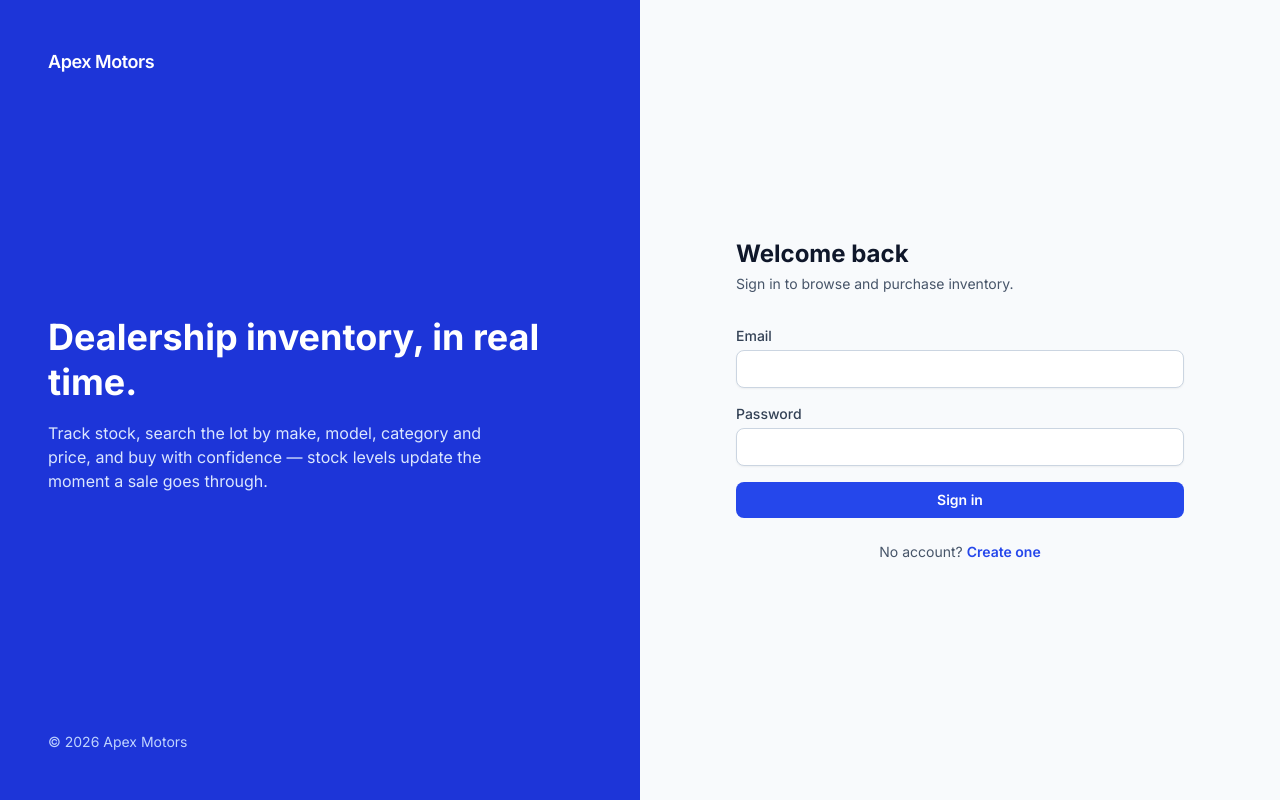
LoginPage › surfaces the API error message when sign in fails
Type "ada@example.com" into the field labelled "Email" at (960, 369), box [736,350,1184,388]
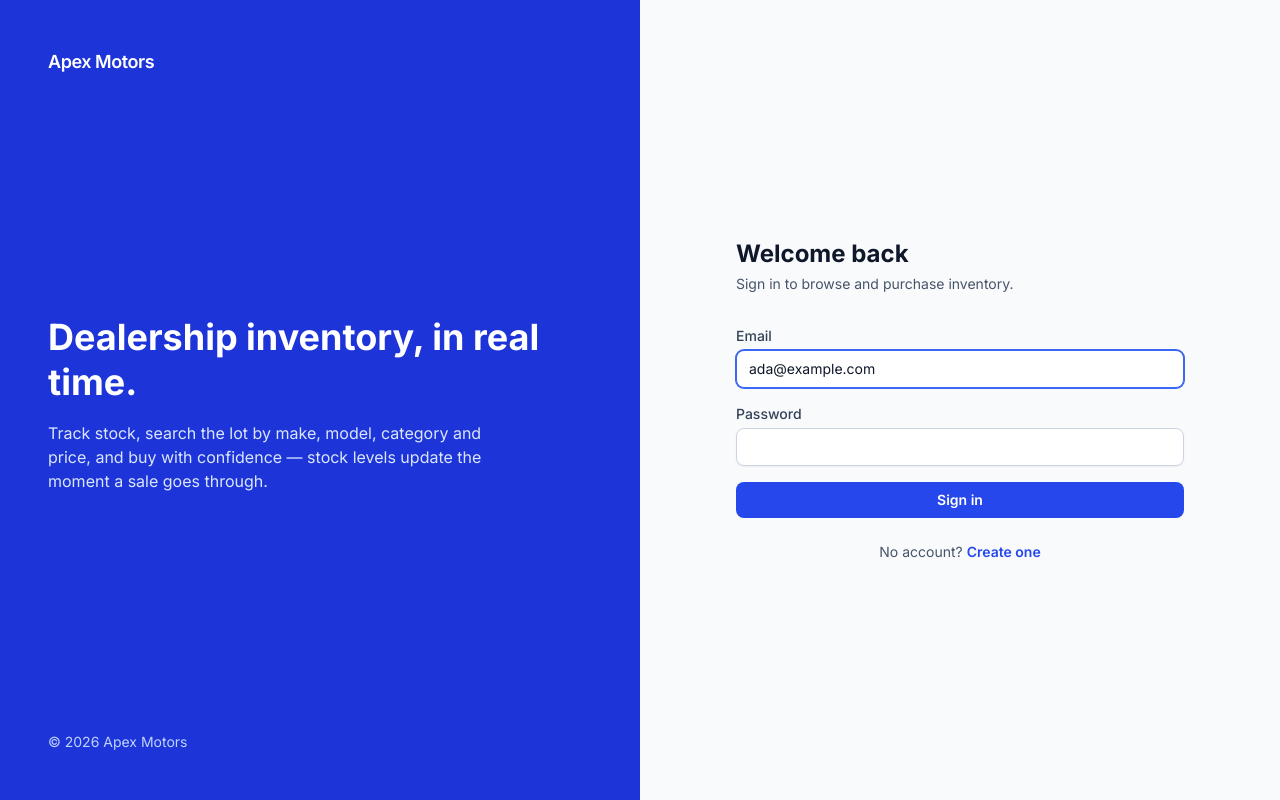
Type "wrong-password" into the password field labelled "Password" at (960, 447), box [736,428,1184,466]
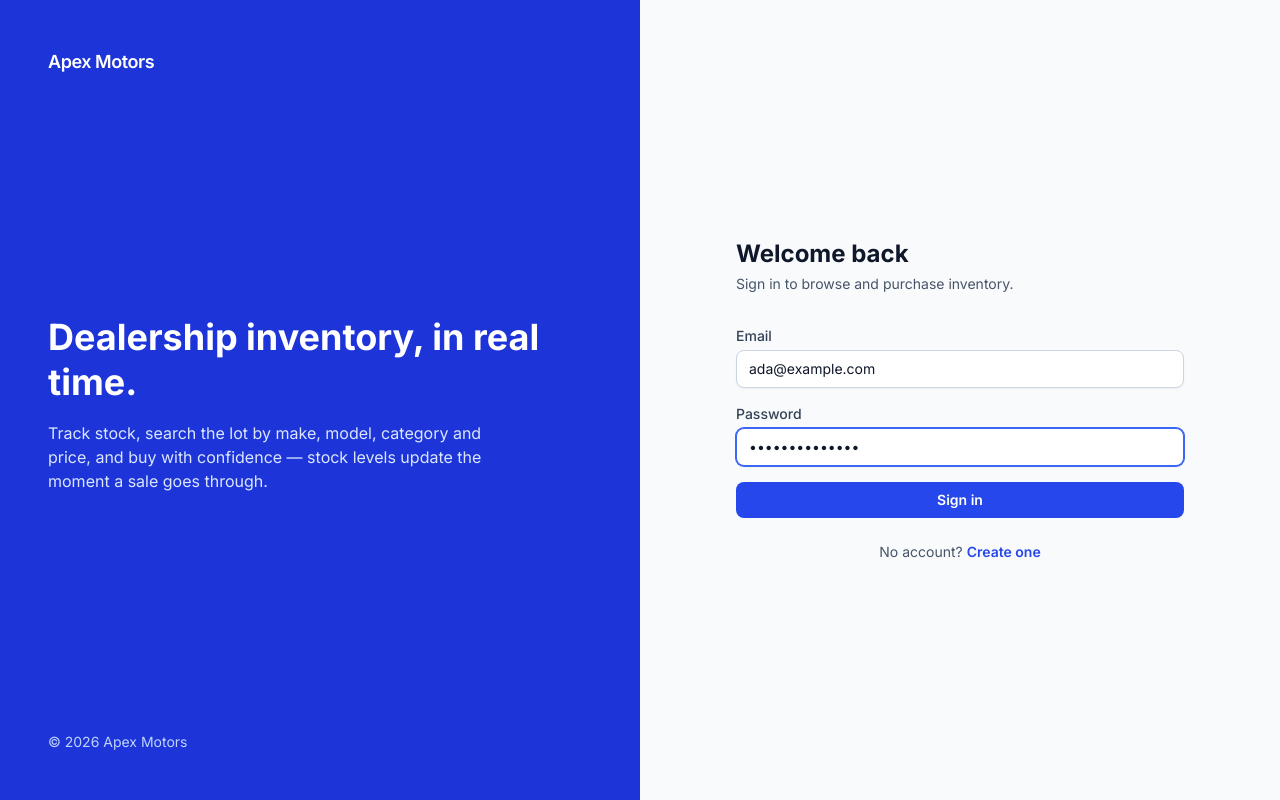
Click the button "Sign in" at (960, 500), box [736,482,1184,518]
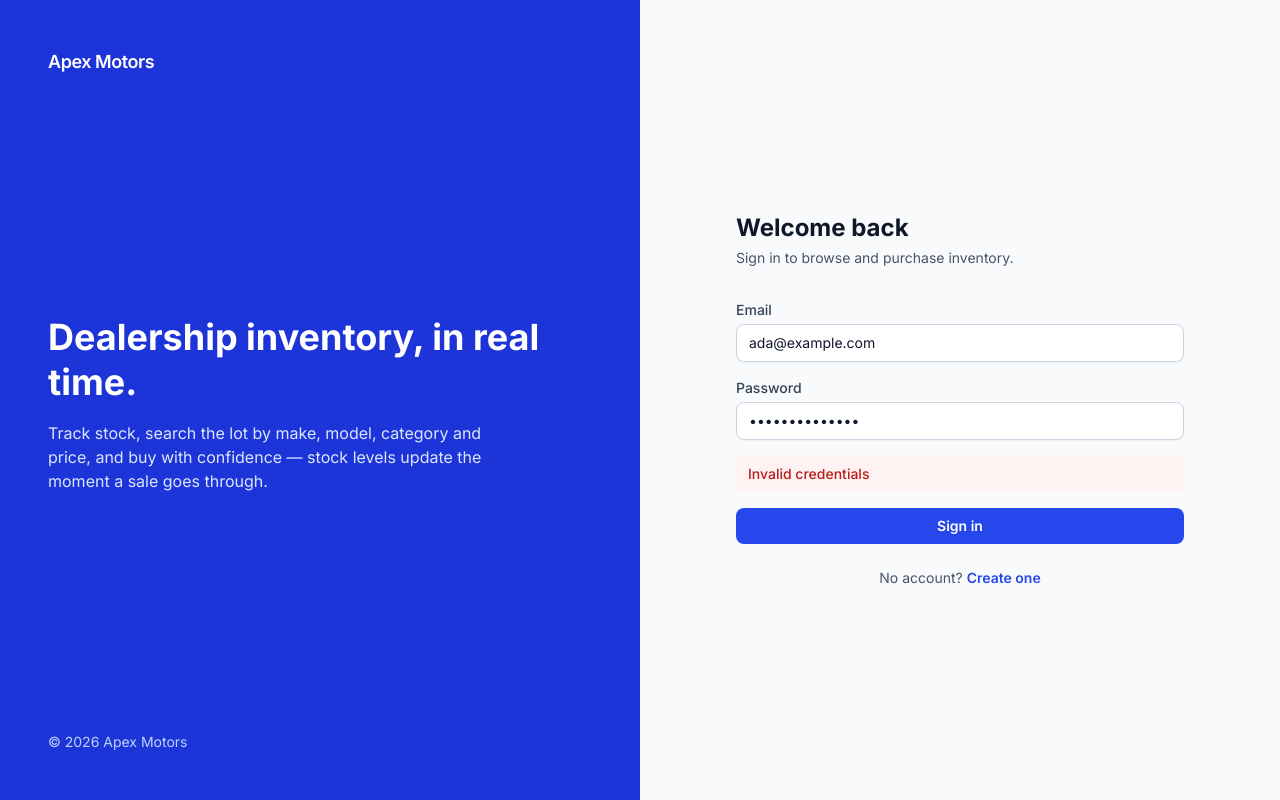
Result: the message reads "Invalid credentials" at [748,465,869,482]
